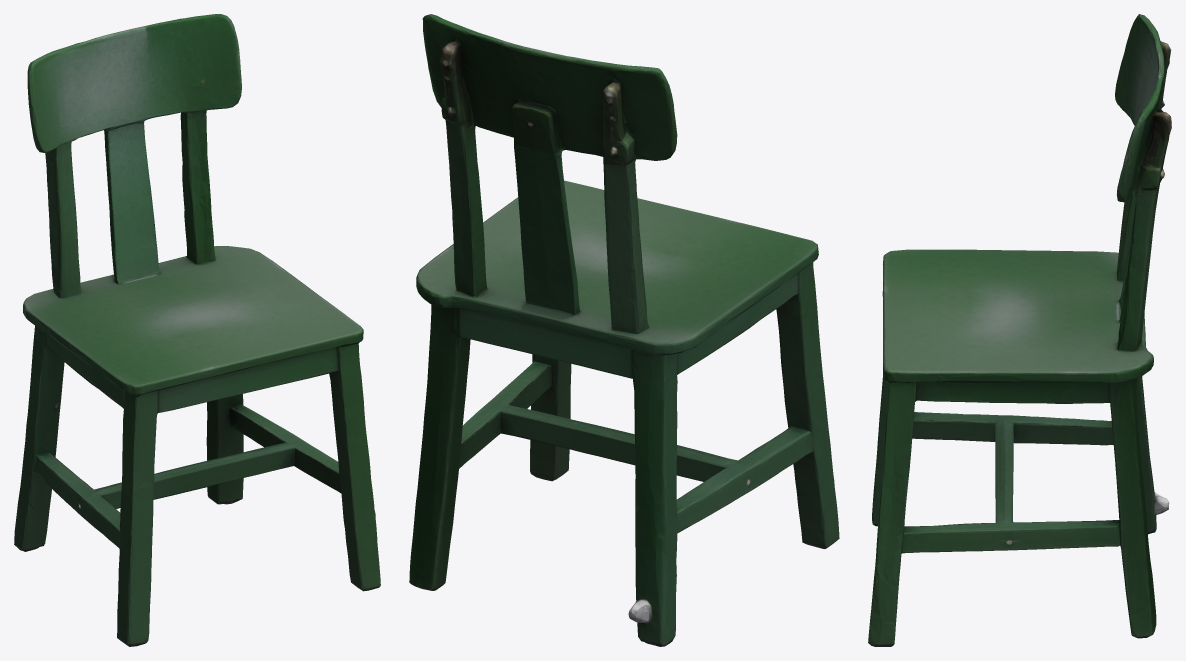
3 renders of one model, left to right at view 1: azimuth 30°, elevation 25°; view 2: azimuth 150°, elevation 25°; view 3: azimuth 270°, elevation 25°, orthographic. The views are drawn at different scales.
Visible parts, largest first — view 1: world; view 2: world; view 3: world.
Boxes of the visible parts, x1=… form: world: x1=14, y1=14, x2=380, y2=646; world: x1=409, y1=14, x2=839, y2=646; world: x1=868, y1=14, x2=1171, y2=646.
Size of the model in its own units: 0.5463 by 1 by 0.5305.
Materials: 1 (1 with a texture image).
